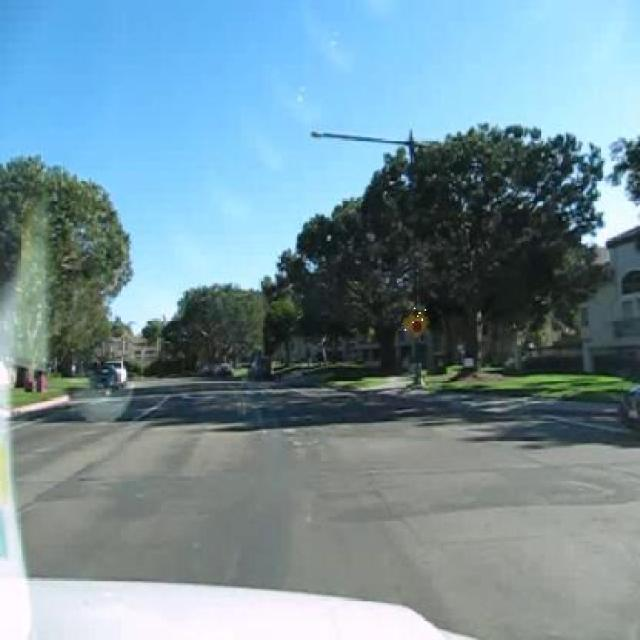stopAhead: (401, 304, 429, 338)
